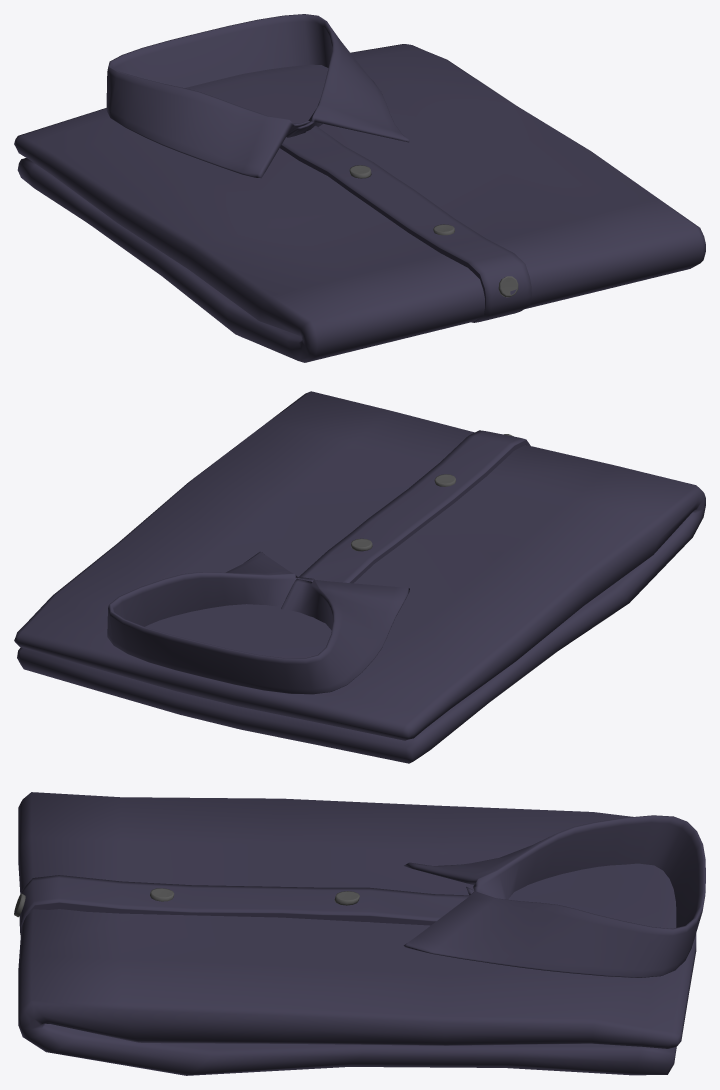
Rendered from Folded_Shirt10.fbx.
3 views of the same model, one above another, from view 1: azimuth 30°, elevation 25°; view 2: azimuth 150°, elevation 25°; view 3: azimuth 270°, elevation 25° (orthographic). The views are drawn at different scales.
Parts seen in each view (by area): view 1: Folded_Shirt10; view 2: Folded_Shirt10; view 3: Folded_Shirt10.
Part boxes in pixels (x1,y1,x2,y2): Folded_Shirt10: [14, 14, 705, 362]; Folded_Shirt10: [14, 391, 705, 763]; Folded_Shirt10: [14, 792, 705, 1075].
Size of the model in its own units: 24.89 by 5.51 by 33.24.
